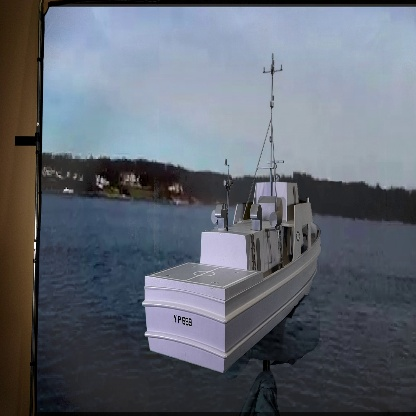YP689: (144, 56, 325, 371)
